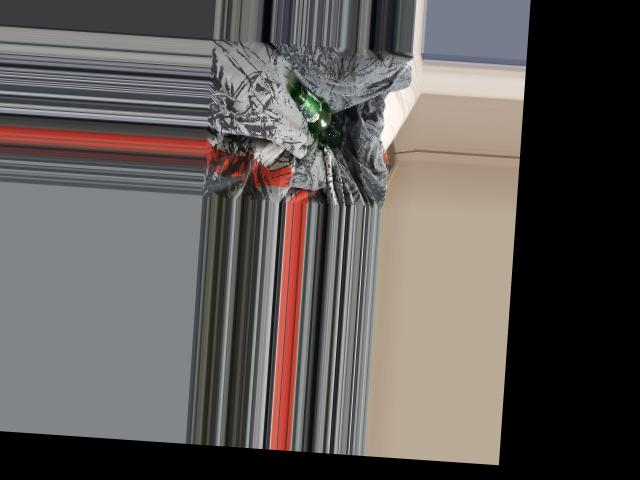beer: (286, 82, 345, 148)
